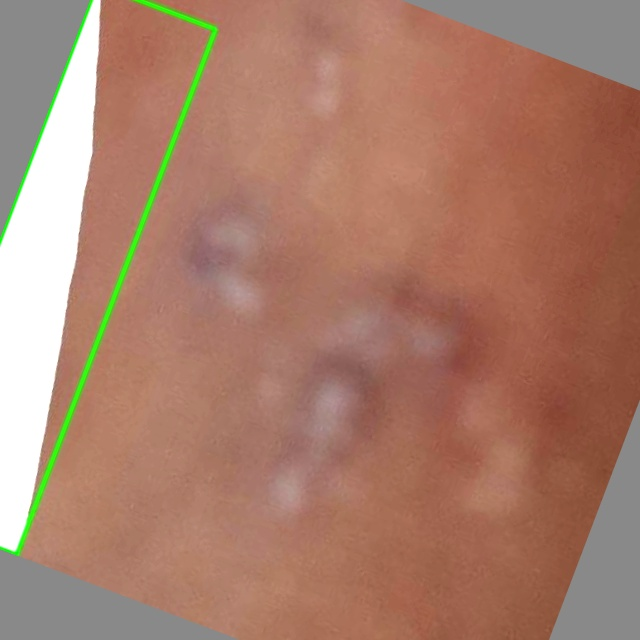Contact Dermatitis: (0, 0, 217, 555)
